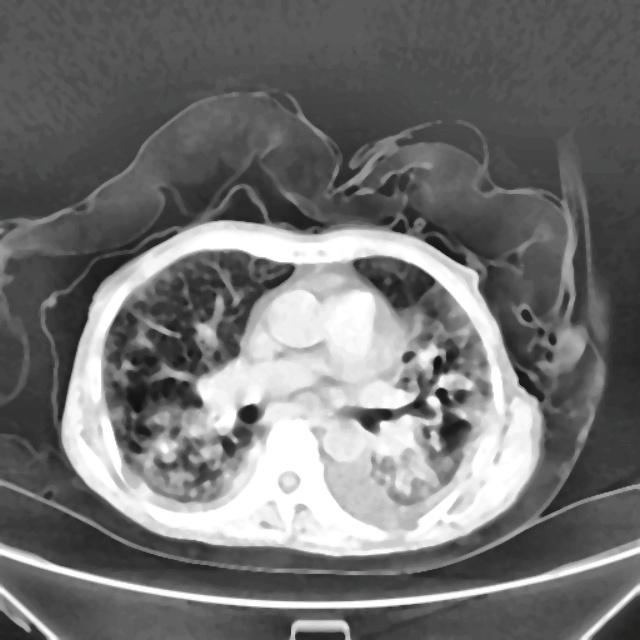covid: (60, 218, 546, 557)
